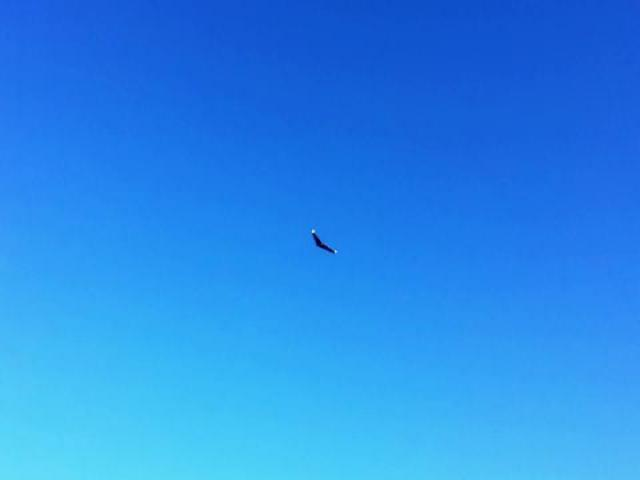flying wing: (310, 225, 338, 259)
